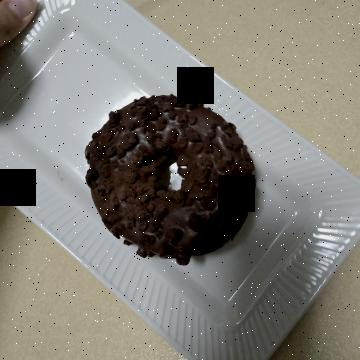doughnut: (92, 93, 279, 283)
